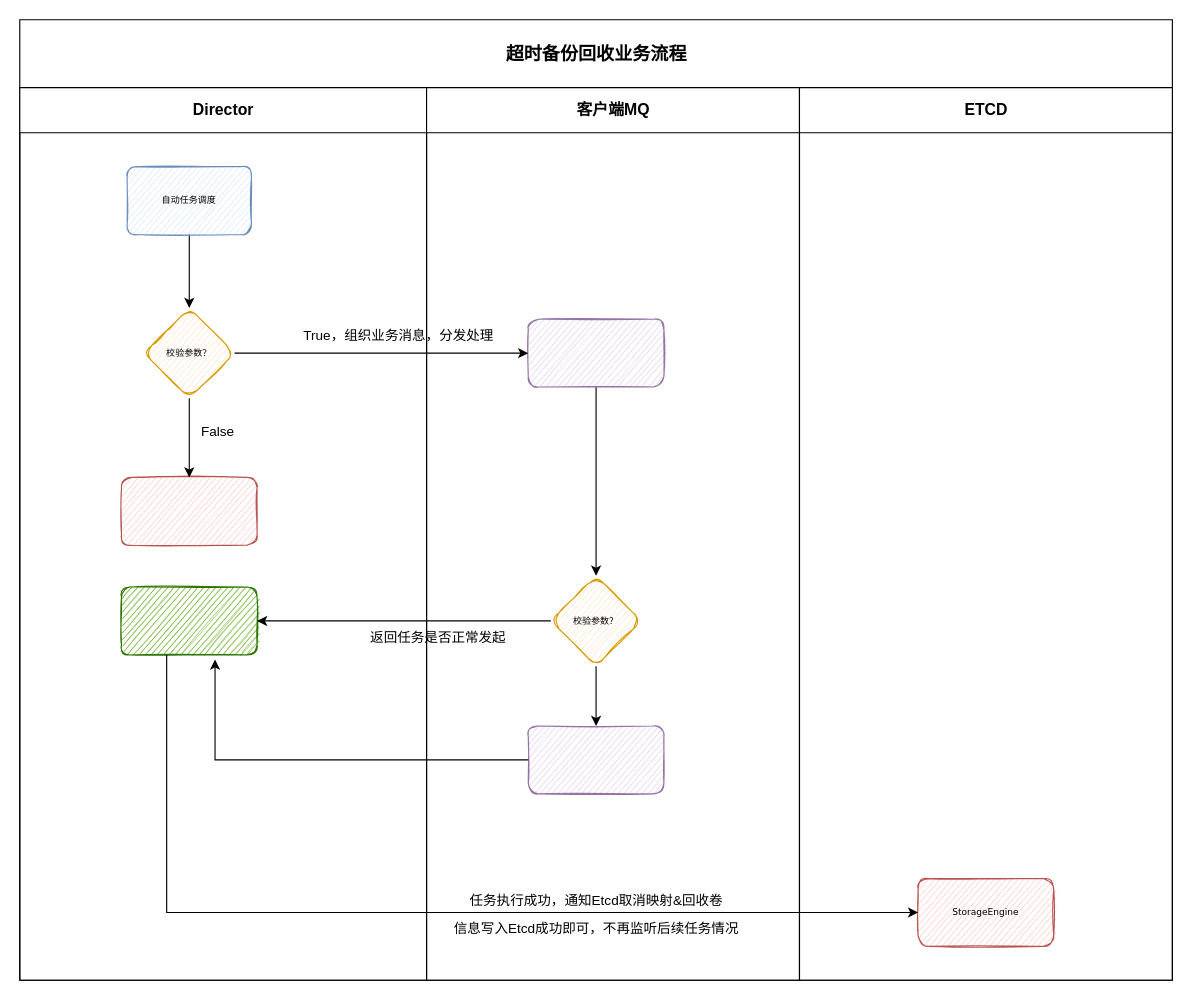
Image size: 1192x1000. Some labels were removed from this diagram. The centre of each missing label's shape, as x and y in pixels:
"业务处理，定期推送任务状态" goes at pixel 595 759.
"任务失败" goes at pixel 188 510.
"接收显示任务状态" goes at pixel 188 620.
"消息处理器" goes at pixel 595 352.
